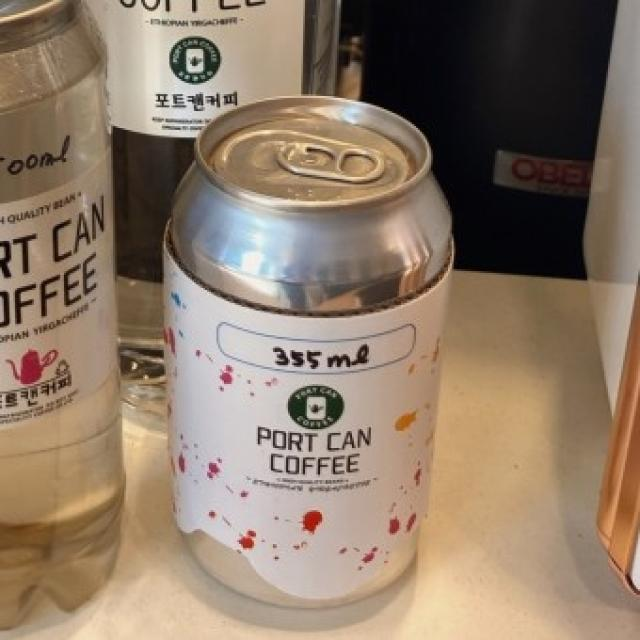can: (158, 92, 453, 632), (0, 0, 121, 640)
